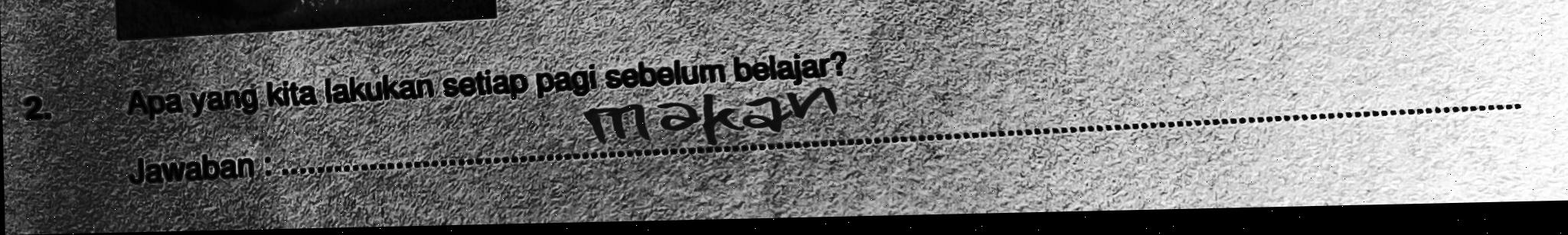jawaban: (580, 79, 843, 154)
